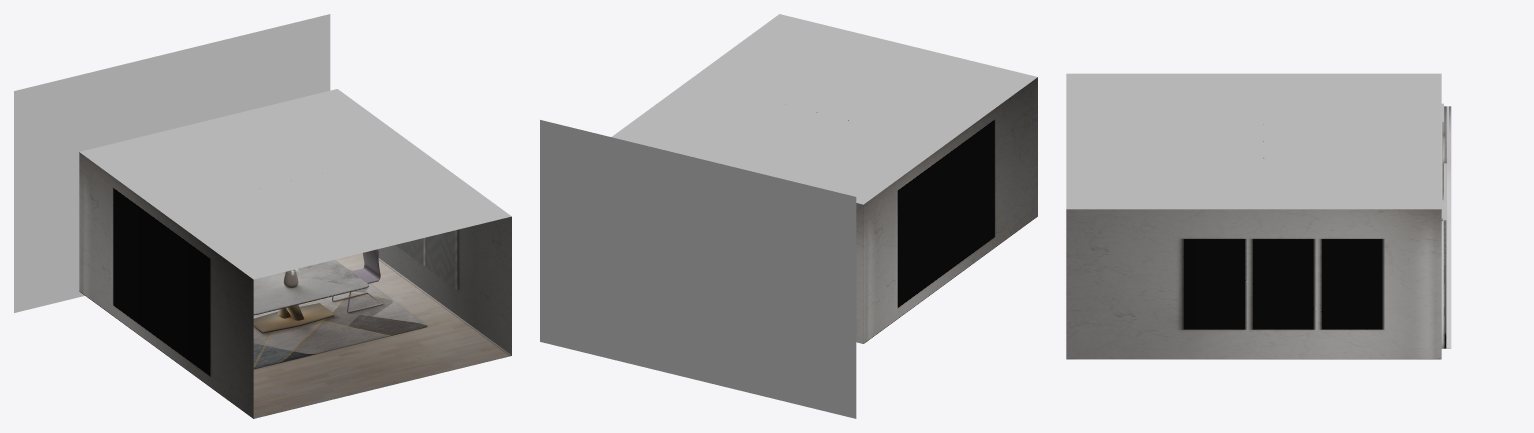
The model's file is Modern Dining Room.fbx.
3 renders of one model, left to right at view 1: azimuth 30°, elevation 25°; view 2: azimuth 150°, elevation 25°; view 3: azimuth 270°, elevation 25°, orthographic. The views are drawn at different scales.
Parts seen in each view (by area): view 1: Roof, Backdrop, Walls, Modern Dining Room, Carpet, DiningTable, Paintings; view 2: Backdrop, Roof, Walls; view 3: Walls, Roof, DoorFrame.
Boxes of the visible parts, bbox=[...] form: Roof: bbox=[80, 89, 511, 279]; Backdrop: bbox=[14, 14, 330, 312]; Walls: bbox=[79, 152, 511, 418]; Modern Dining Room: bbox=[253, 253, 511, 418]; Carpet: bbox=[253, 267, 427, 369]; DiningTable: bbox=[253, 249, 382, 333]; Paintings: bbox=[396, 230, 457, 288]; Backdrop: bbox=[540, 120, 856, 418]; Roof: bbox=[611, 14, 1037, 204]; Walls: bbox=[856, 77, 1037, 343]; Walls: bbox=[1066, 209, 1441, 359]; Roof: bbox=[1066, 73, 1441, 209]; DoorFrame: bbox=[1441, 106, 1451, 348].
Size of the model in its own units: 3995 by 2680 by 4607.
